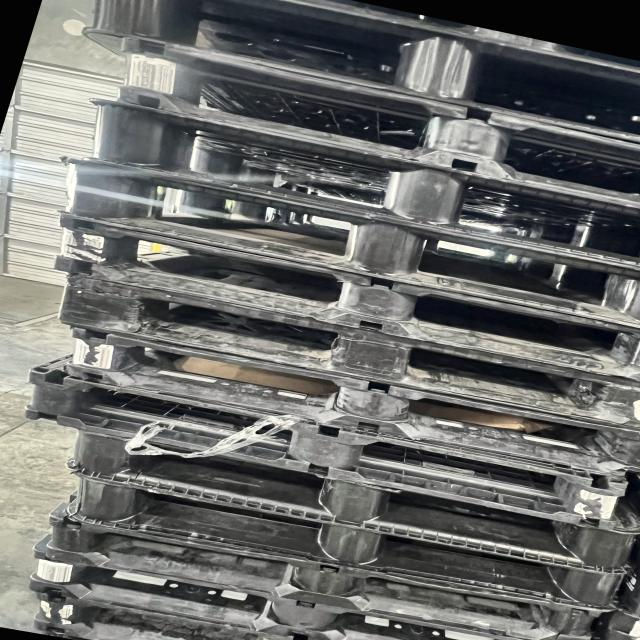igps: (51, 150, 640, 332), (47, 208, 640, 387), (20, 362, 632, 533), (79, 95, 640, 276), (53, 266, 640, 436), (110, 30, 640, 213), (58, 318, 640, 481), (62, 426, 640, 580), (76, 0, 640, 148), (61, 472, 631, 616), (38, 508, 621, 640), (25, 526, 605, 640), (25, 575, 529, 640), (269, 0, 639, 79)
